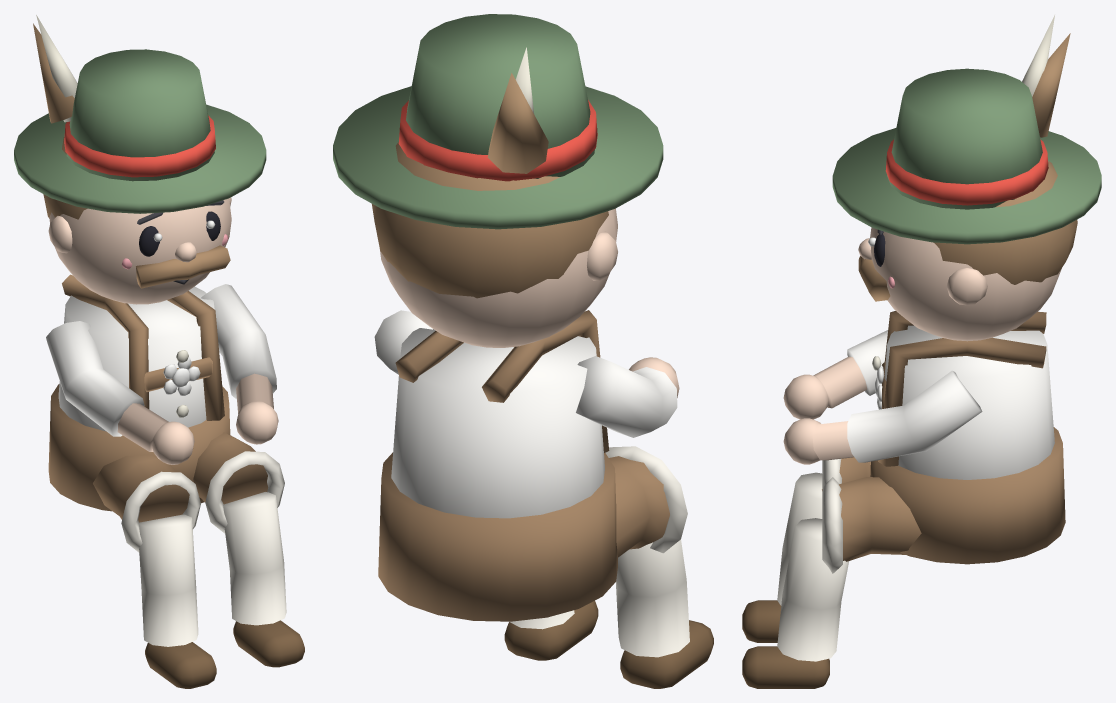
File: driver_sepp.glb
3 views of the same model, side by side, from view 1: azimuth 30°, elevation 25°; view 2: azimuth 150°, elevation 25°; view 3: azimuth 270°, elevation 25° (orthographic). The views are drawn at different scales.
Parts seen in each view (by area): view 1: Sepp; view 2: Sepp; view 3: Sepp.
Part boxes in pixels (x1,y1,x2,y2): Sepp: [14, 15, 304, 688]; Sepp: [333, 14, 713, 688]; Sepp: [742, 15, 1101, 688].
Size of the model in its own units: 1.04 by 2.62 by 1.39.
